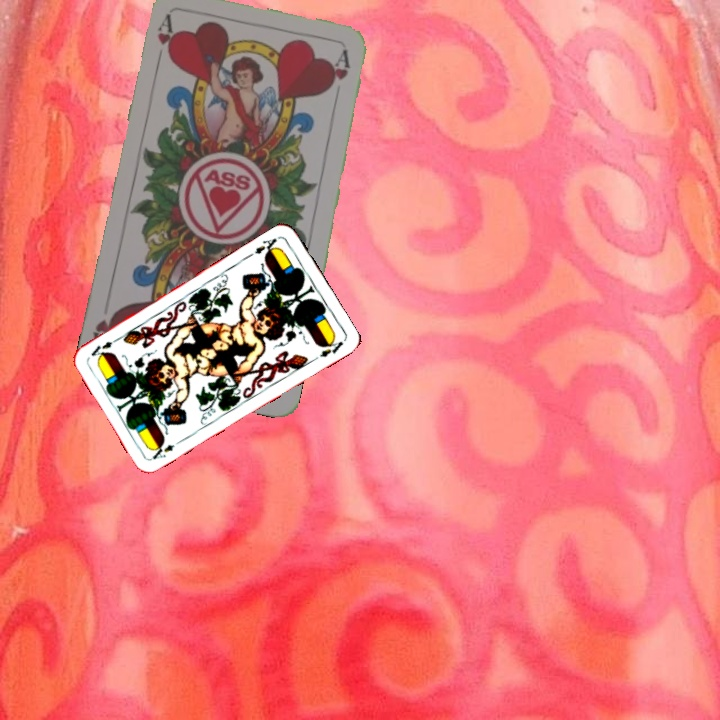EA: (250, 234, 281, 259), (148, 439, 178, 462)
HA: (151, 12, 177, 71)
